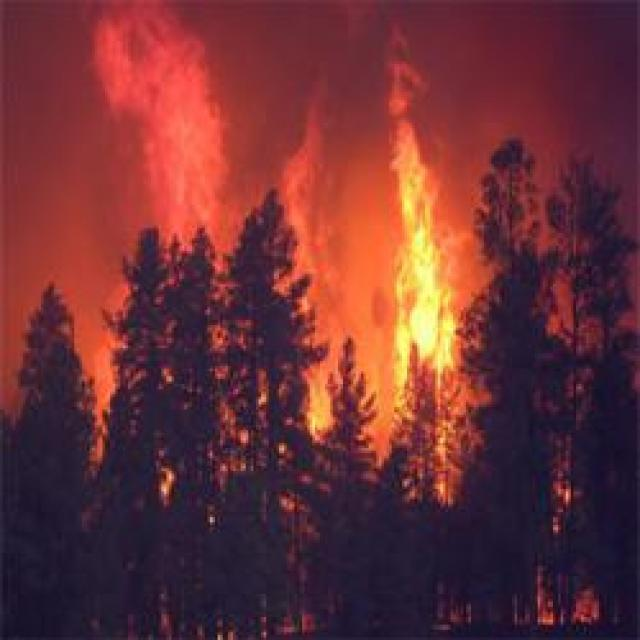Fire: (364, 62, 453, 390)
Smoke: (120, 9, 284, 460)
